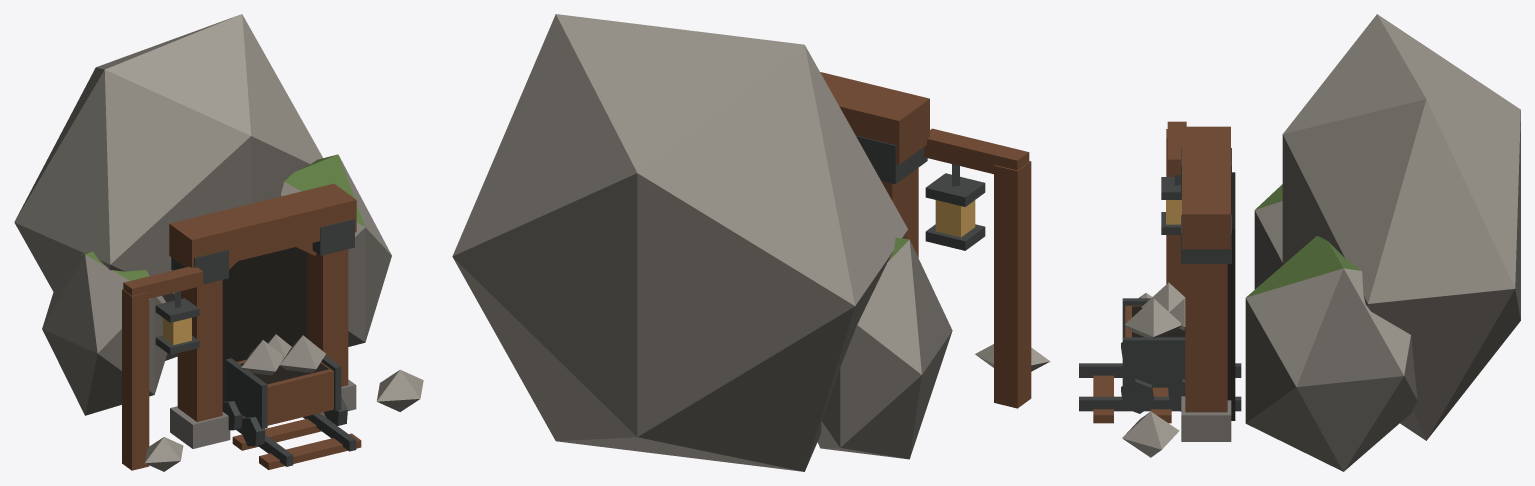
The model's file is hillside_mine.glb.
3 renders of one model, left to right at view 1: azimuth 30°, elevation 25°; view 2: azimuth 150°, elevation 25°; view 3: azimuth 270°, elevation 25°, orthographic. The views are drawn at different scales.
Parts seen in each view (by area): view 1: hillside_mine; view 2: hillside_mine; view 3: hillside_mine.
Part boxes in pixels (box(x1,y1,x2,y2)): hillside_mine: box(14, 14, 423, 471); hillside_mine: box(452, 14, 1050, 471); hillside_mine: box(1079, 14, 1520, 471).
Bounding box in the file's own units: 0.4287 × 0.3956 × 0.4633.
